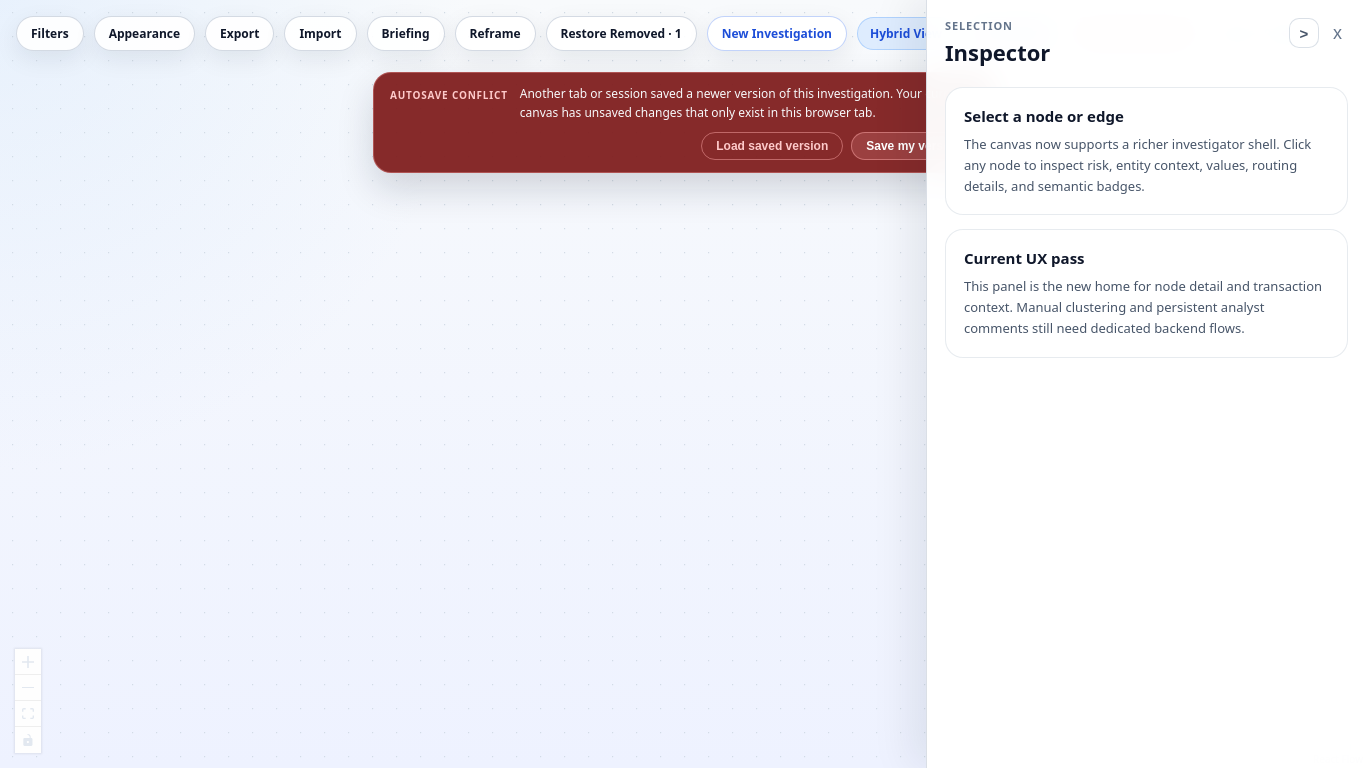
Test: InvestigationGraph backend autosave › disables both recovery buttons while an action is in flight
The image size is (1366, 768).
Click the button "Save my version" at (914, 146), box x1=851 y1=132 x2=976 y2=160
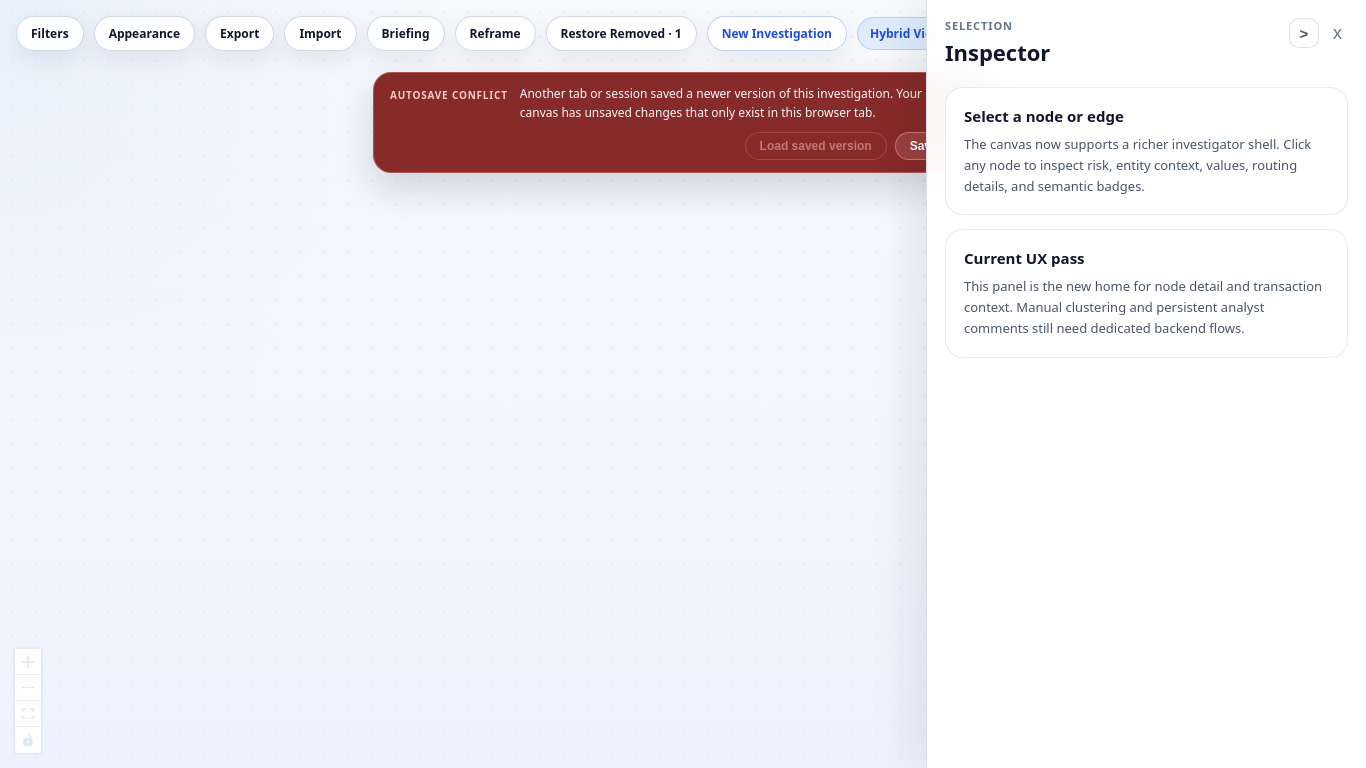
Expected: the button "Load saved version" is disabled, x1=745 y1=132 x2=887 y2=160
Expected: the button "Saving…" is disabled, x1=895 y1=132 x2=976 y2=160
